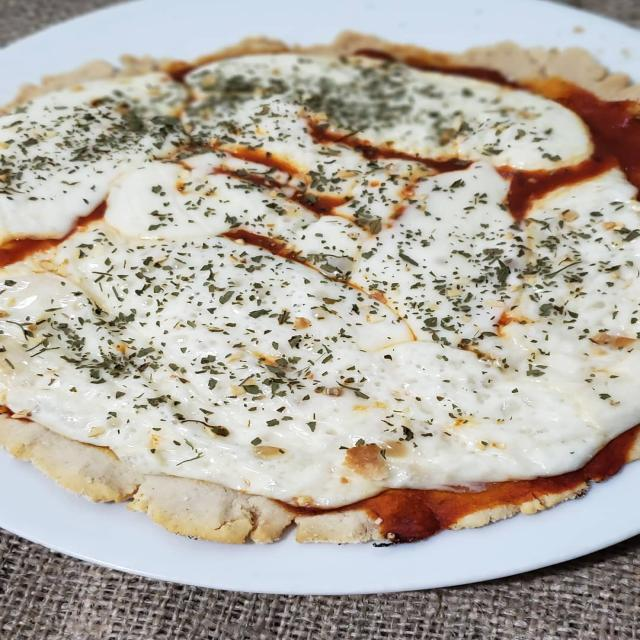pizza: (0, 40, 637, 542)
